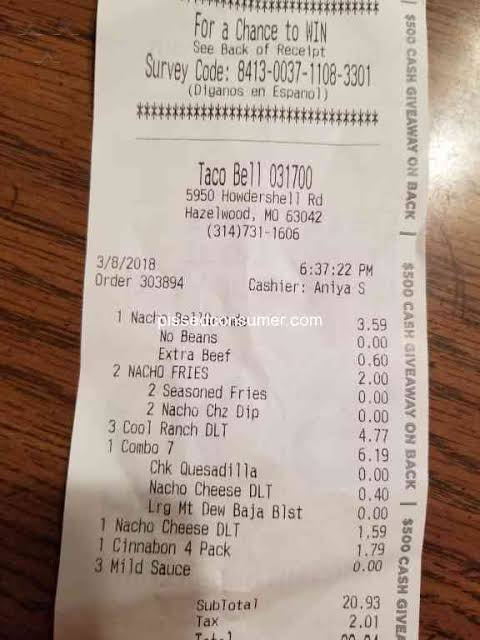Taco Bell: (194, 149, 264, 189)
